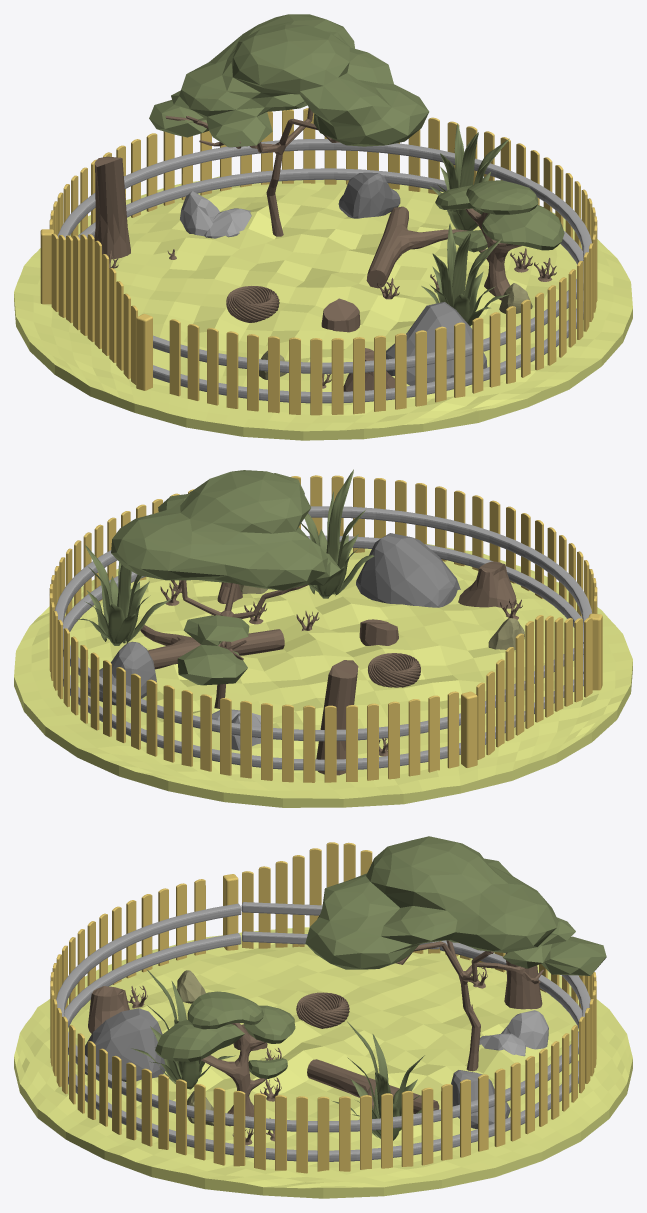
Rendered from devekusu_kumes.fbx.
3 views of the same model, one above another, from view 1: azimuth 30°, elevation 25°; view 2: azimuth 150°, elevation 25°; view 3: azimuth 270°, elevation 25° (orthographic).
Parts seen in each view (by area): view 1: zemin, Plane.001, Circle.001, Circle.002, ot, kutuk, tas.004, Cube.153, kutuk.001, kaktus_collection.001, tas.002, tas.003 (+45 smaller); view 2: zemin, Plane.001, Circle.001, tas.004, Circle.002, kaktus_collection.001, ot, kutuk.001, kutuk, kutuk.002, tas.003, Torus.001 (+52 smaller); view 3: zemin, Plane.001, Circle.002, Circle.001, tas.004, Cube.153, Cube.151, agac, tas.002, kaktus_collection.001, kutuk.001, agac.001 (+53 smaller).
Boxes of the visible parts, x1,y1,x2,y2 form: zemin: (14,176,632,440); Plane.001: (149,14,429,147); Circle.001: (57,139,591,373); Circle.002: (78,168,583,403); ot: (421,223,509,326); kutuk: (94,156,130,259); tas.004: (386,302,487,385); Cube.153: (481,205,564,250); kutuk.001: (366,206,467,288); kaktus_collection.001: (429,123,509,230); tas.002: (180,191,251,238); tas.003: (338,172,400,218); zemin: (14,544,632,807); Plane.001: (111,470,340,685); Circle.001: (54,506,592,741); tas.004: (356,533,460,607); Circle.002: (63,535,583,770); kaktus_collection.001: (76,545,171,645); ot: (301,469,374,598); kutuk.001: (140,625,284,669); kutuk: (316,660,358,775); kutuk.002: (458,561,516,608); tas.003: (88,641,156,705); Torus.001: (368,653,420,687); zemin: (14,927,632,1198); Plane.001: (305,836,606,975); Circle.002: (64,933,582,1161); Circle.001: (56,903,590,1132); tas.004: (85,1008,165,1081); Cube.153: (155,1020,244,1061); Cube.151: (187,991,263,1029); agac: (395,940,543,1071); tas.002: (479,1010,548,1056); kaktus_collection.001: (332,1021,436,1140); kutuk.001: (307,1059,439,1119); agac.001: (201,1023,266,1126).
Bounding box in the file's own units: 5455 × 2416 × 5455.
